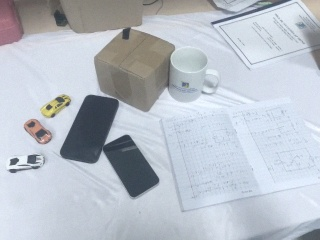box: (94, 26, 175, 111), (52, 1, 145, 35)
cup: (167, 47, 221, 100)
phone: (59, 93, 120, 164), (102, 133, 160, 199)
toy_car: (23, 117, 53, 145), (40, 94, 71, 118), (6, 154, 45, 172)
